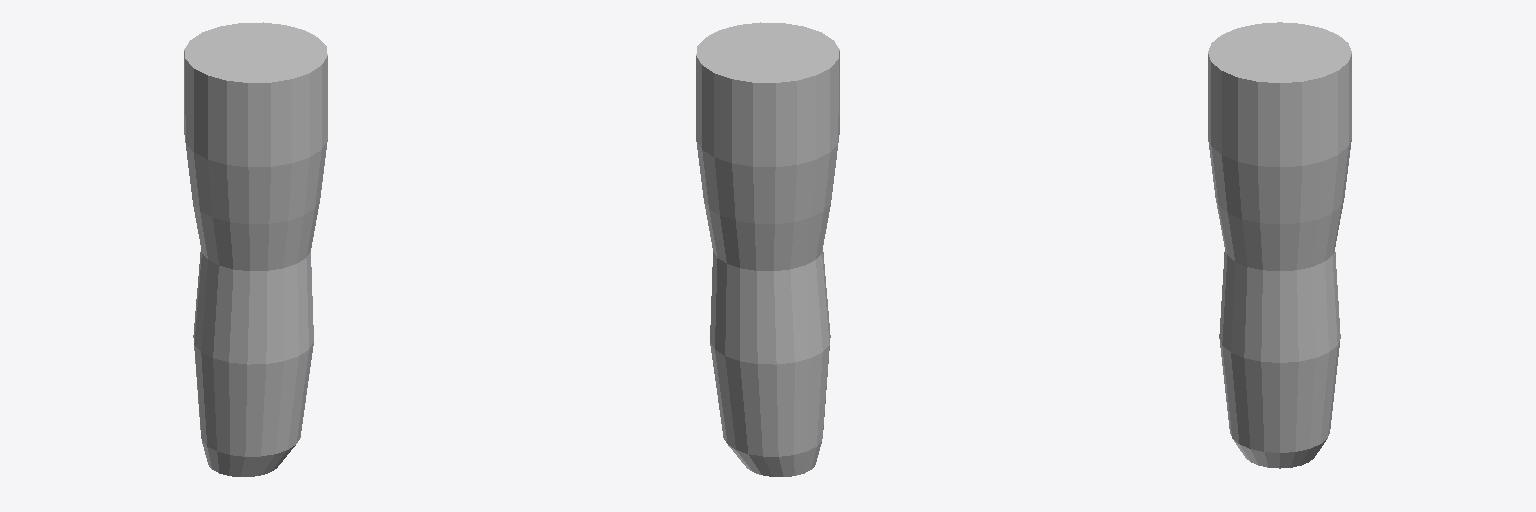
Rendered from player_Lleg.obj.
The picture shows the model from 3 angles: view 1: azimuth 30°, elevation 25°; view 2: azimuth 150°, elevation 25°; view 3: azimuth 270°, elevation 25°; orthographic projection.
Parts seen in each view (by area): view 1: pCylinder2; view 2: pCylinder2; view 3: pCylinder2.
Part boxes in pixels (left/top/right/bottom): pCylinder2: left=184, top=22, right=327, bottom=476; pCylinder2: left=696, top=22, right=839, bottom=476; pCylinder2: left=1208, top=22, right=1351, bottom=468.
Size of the model in its own units: 1.12 by 3.48 by 1.12.